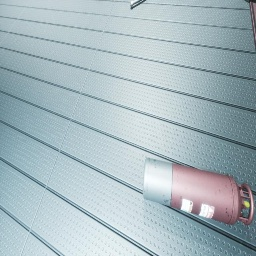NitrogenTank ,: (143, 158, 254, 226)
